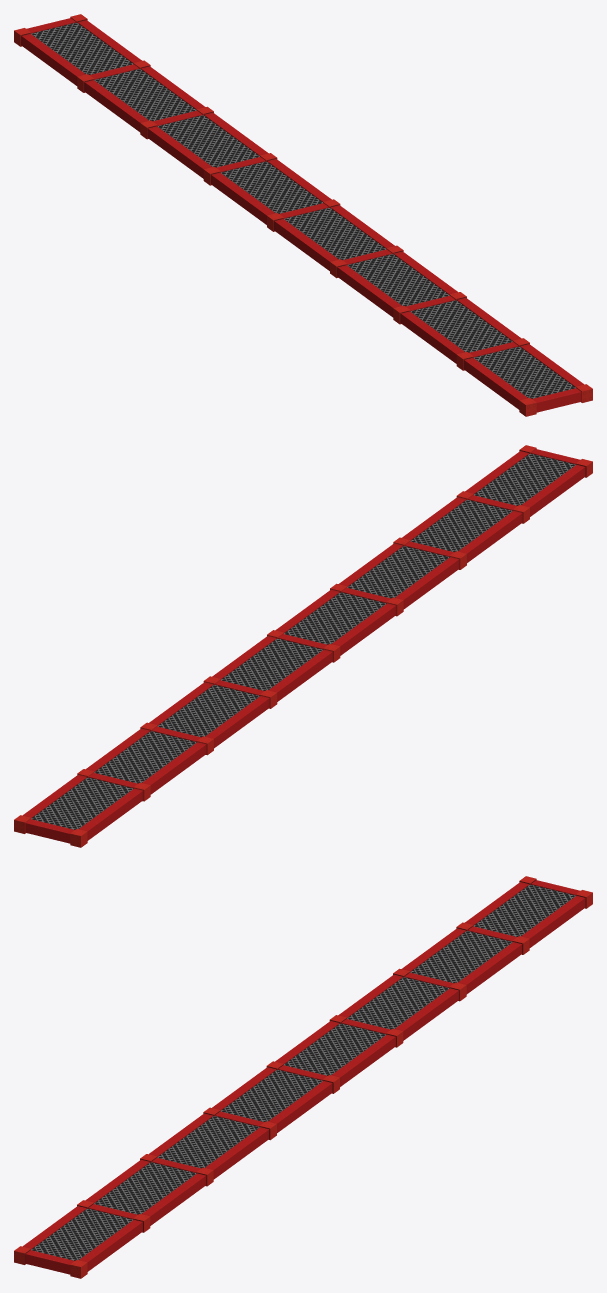
File: RoadKanaamiNarrow8NoSide_Prefab.fbx
The picture shows the model from 3 angles, top to bottom: view 1: azimuth 30°, elevation 25°; view 2: azimuth 150°, elevation 25°; view 3: azimuth 330°, elevation 25°; orthographic projection.
Visible parts, largest first — view 1: RoadKanaamiNarrow8NoSide; view 2: RoadKanaamiNarrow8NoSide; view 3: RoadKanaamiNarrow8NoSide.
Boxes of the visible parts, x1,y1,x2,y2 form: RoadKanaamiNarrow8NoSide: (14,14,592,416); RoadKanaamiNarrow8NoSide: (14,445,592,847); RoadKanaamiNarrow8NoSide: (14,876,592,1278).
Size of what is drawn, in the model's own units: 10.16 by 1.69 by 134.
